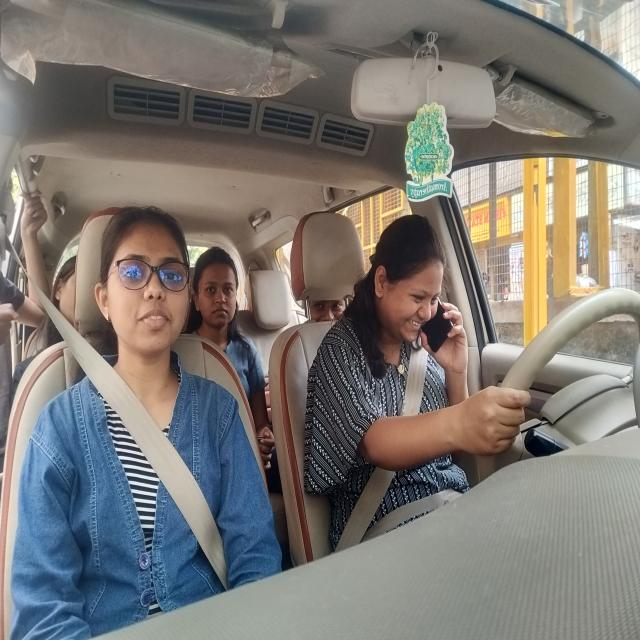mobile: (425, 296, 457, 357)
person: (90, 200, 194, 362), (372, 215, 441, 348), (198, 242, 246, 335), (49, 244, 78, 338), (304, 294, 349, 326)
